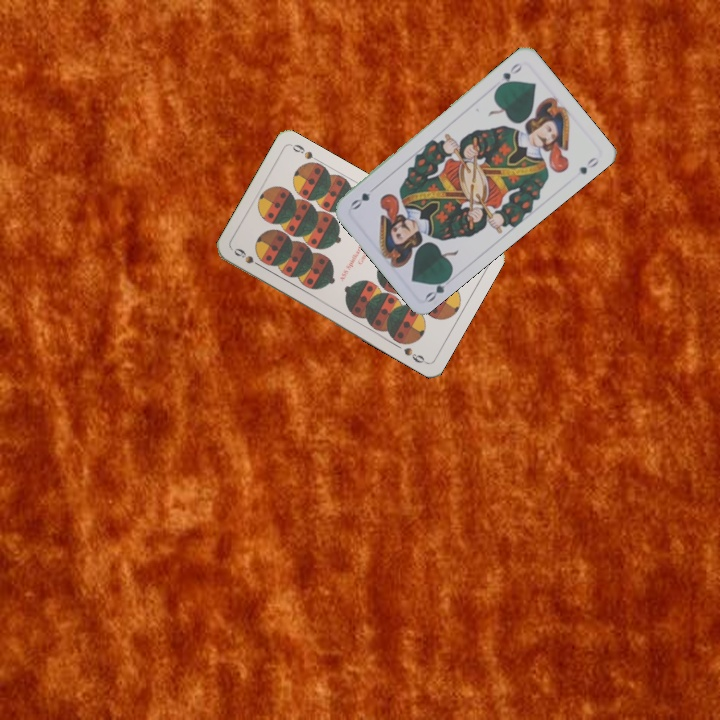GO: (421, 270, 454, 305), (493, 58, 524, 91)
S9: (230, 244, 266, 271)
